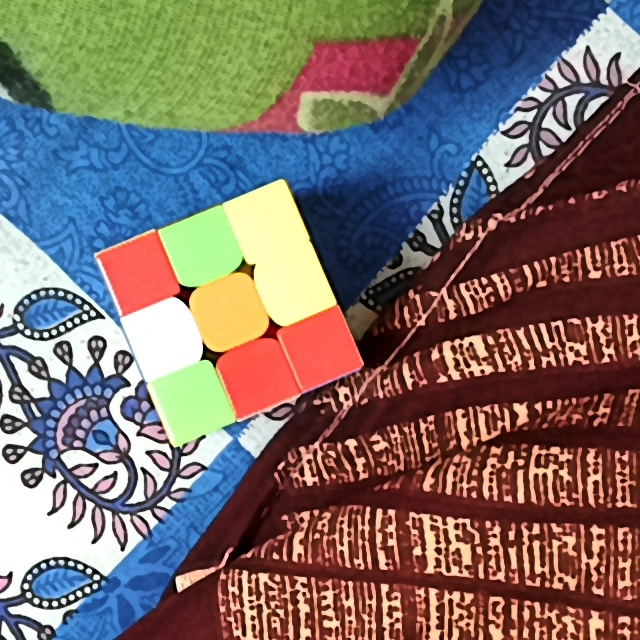tile: (134, 314, 189, 363), (166, 378, 218, 428), (241, 199, 292, 249), (174, 227, 229, 272), (115, 254, 164, 300), (271, 259, 313, 310), (210, 289, 259, 332), (301, 328, 345, 373), (237, 355, 280, 399)
